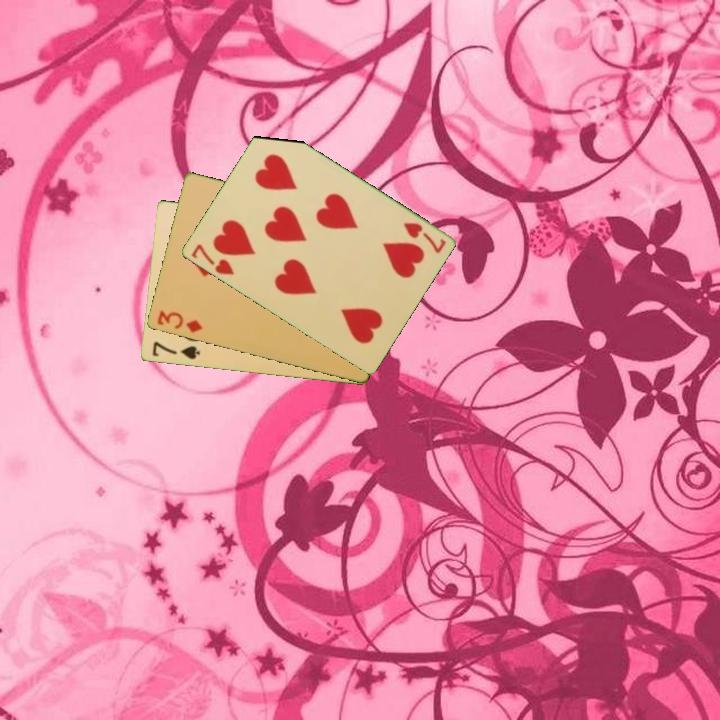3d: (153, 307, 205, 336)
7h: (187, 240, 237, 278), (399, 219, 449, 256)
7s: (148, 338, 202, 362)
